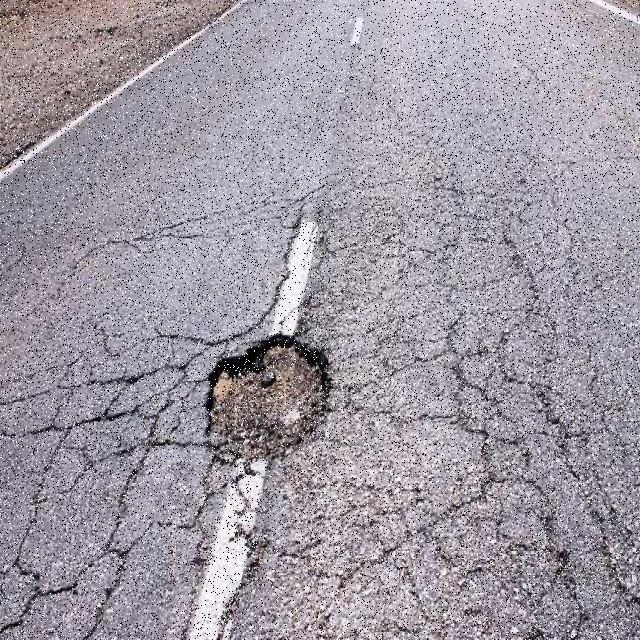pothole: (206, 335, 330, 468)
